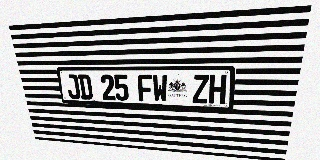2: (100, 74, 116, 100)
5: (114, 74, 129, 101)
D: (77, 74, 93, 100)
F: (137, 74, 153, 102)
H: (209, 75, 227, 104)
J: (65, 74, 81, 99)
W: (152, 75, 168, 102)
Z: (192, 75, 209, 104)
